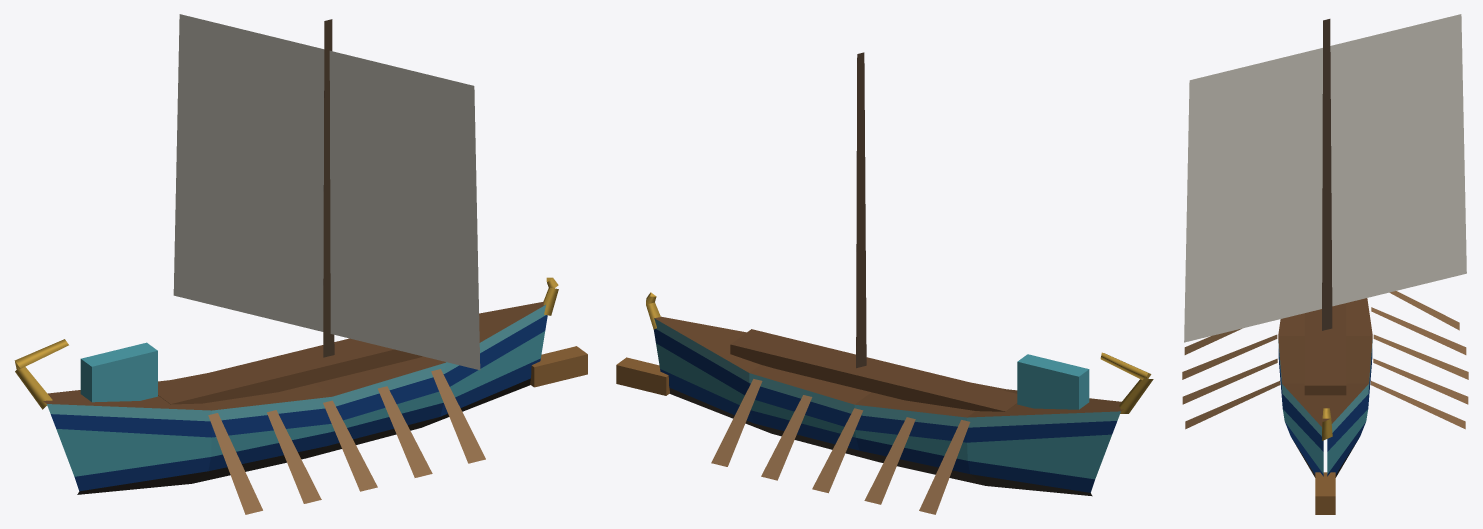
File: titan_rlusd_lod.glb
The picture shows the model from 3 angles, left to right: view 1: azimuth 30°, elevation 25°; view 2: azimuth 150°, elevation 25°; view 3: azimuth 270°, elevation 25°; orthographic projection. The views are drawn at different scales.
Parts seen in each view (by area): view 1: lod; view 2: lod; view 3: lod.
Boxes of the visible parts, <box> form: lod: <box>14,14,587,514</box>; lod: <box>616,52,1153,514</box>; lod: <box>1182,14,1468,514</box>.
Size of the model in its own units: 24.63 by 17.96 by 11.65.
